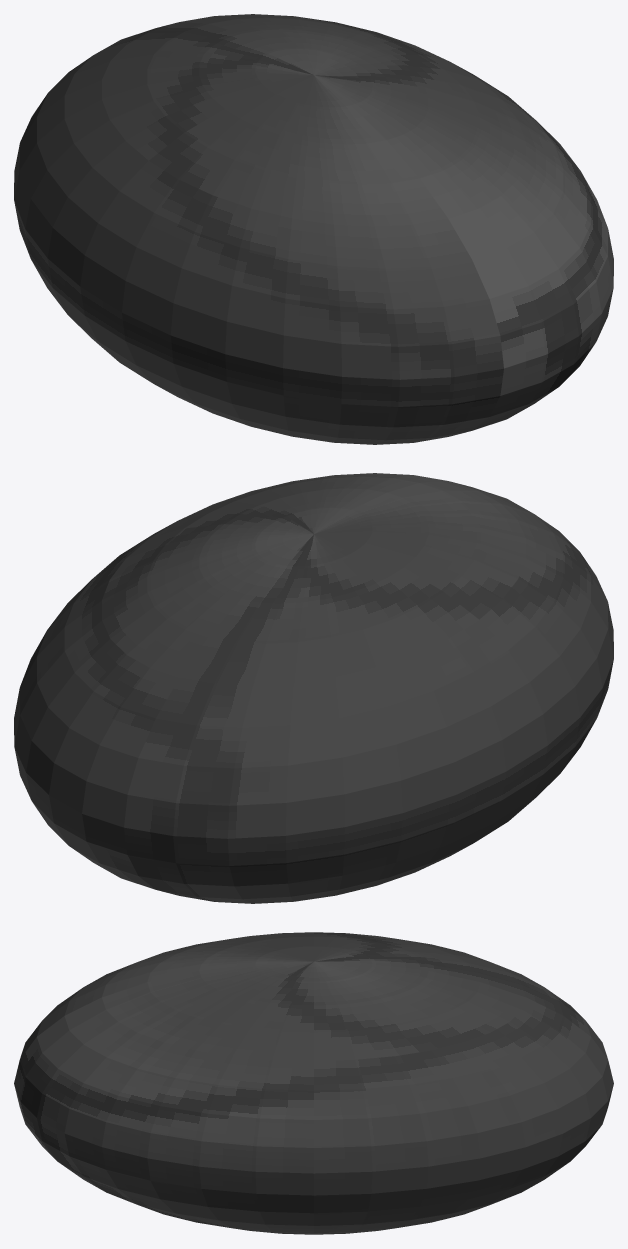
File: ObjectStone.dae
3 renders of one model, top to bottom at view 1: azimuth 30°, elevation 25°; view 2: azimuth 150°, elevation 25°; view 3: azimuth 270°, elevation 25°, orthographic. The views are drawn at different scales.
Parts seen in each view (by area): view 1: Sphere; view 2: Sphere; view 3: Sphere.
Part boxes in pixels (box(x1,y1,x2,y2)): Sphere: box(14, 14, 613, 444); Sphere: box(14, 473, 613, 903); Sphere: box(14, 932, 613, 1234).
Size of the model in its own units: 0.7904 by 1.11 by 0.4984.
Materials: 1 (1 with a texture image).
